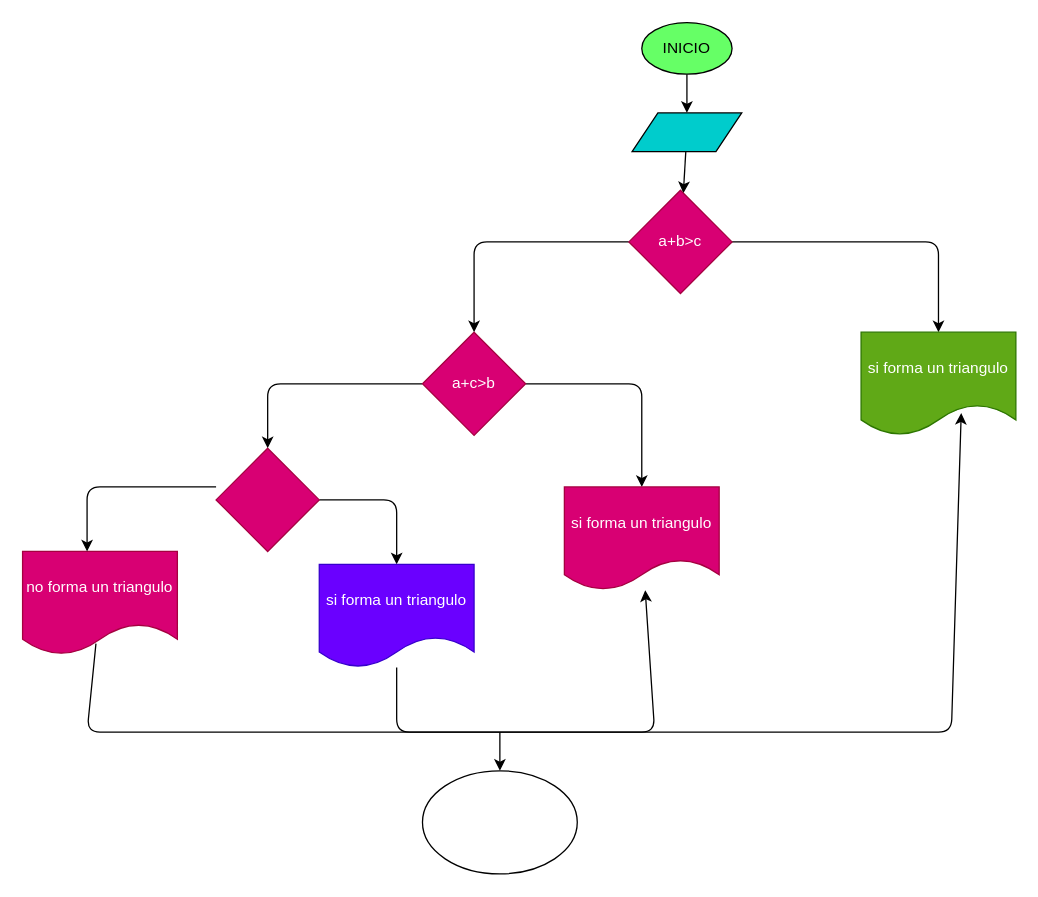
This 1038x897 diagram has some shape labels left out. Each missing label, with the centre of its shape:
"a, b, c" belongs at (686,132).
"b+c=a" belongs at (267,499).
"fin" belongs at (499,821).
